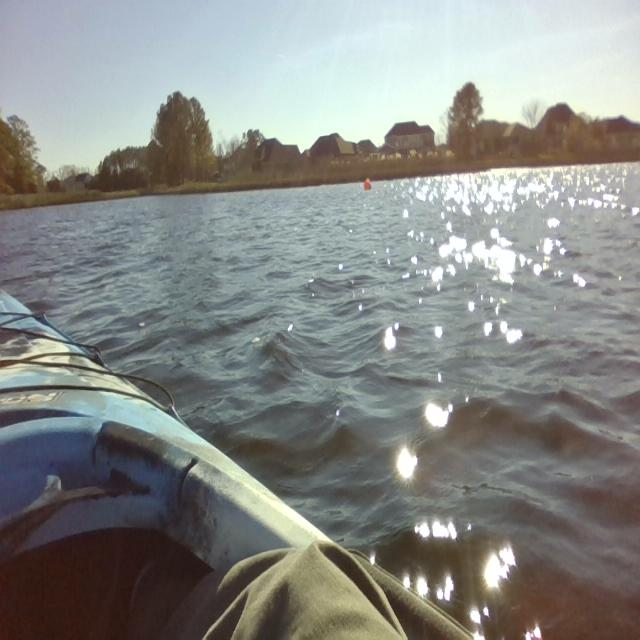Buoy: (362, 175, 373, 195)
